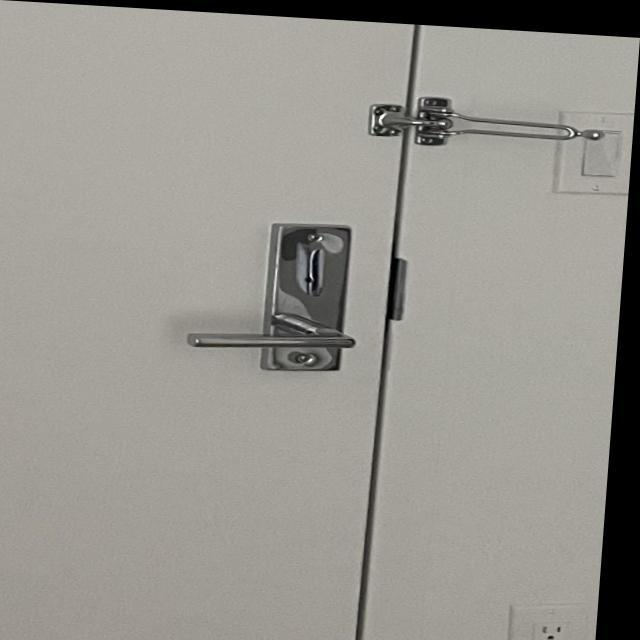door_handle: (172, 298, 378, 364)
